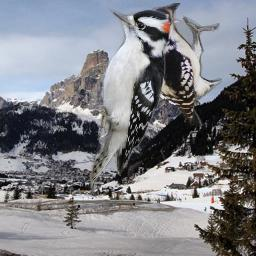Woodpecker: (89, 1, 179, 193), (142, 3, 222, 126)
